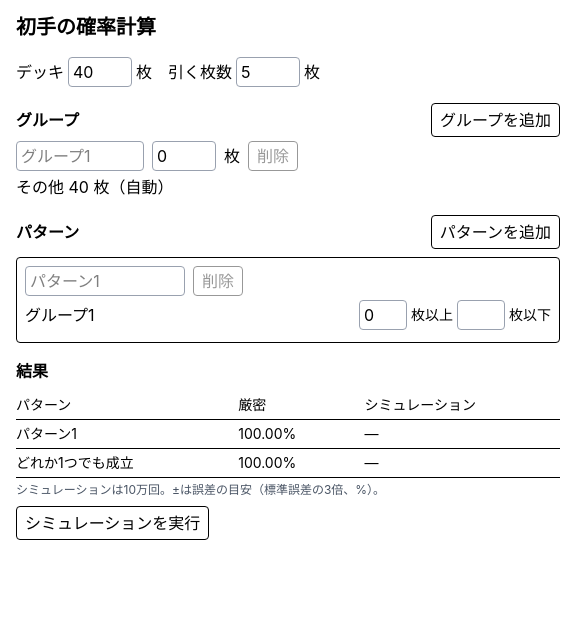
グループを削除すると、パターンの行も消える
This screenshot has width=577, height=633.
Step 1. Click the button "グループを追加" → (496, 120), box [431,103,560,137]
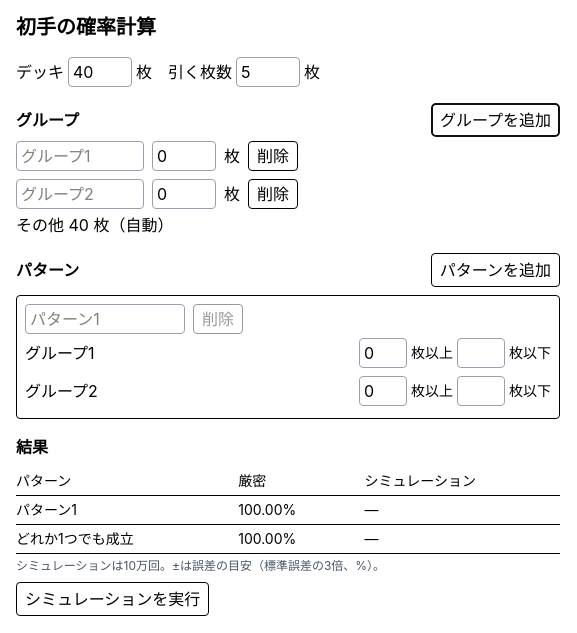
Step 2. Click the button with aria-label "グループ1を削除" → (273, 156), box [248,141,298,171]
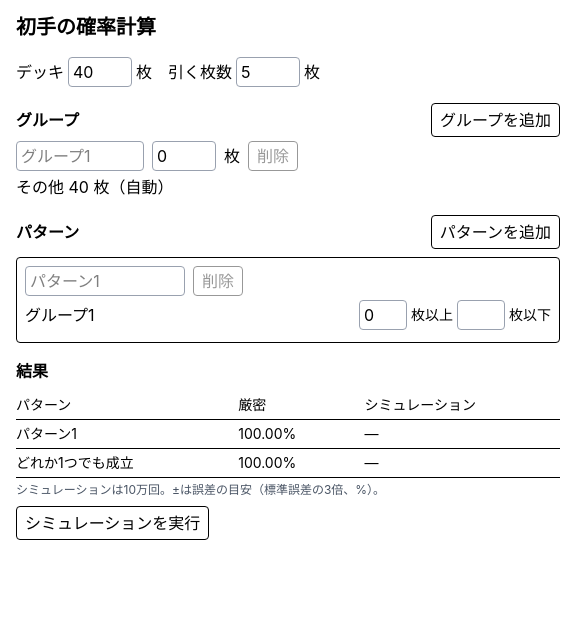
expect the number field named "パターン1：グループ1の最小" is shown: met, box [359,300,407,330]
